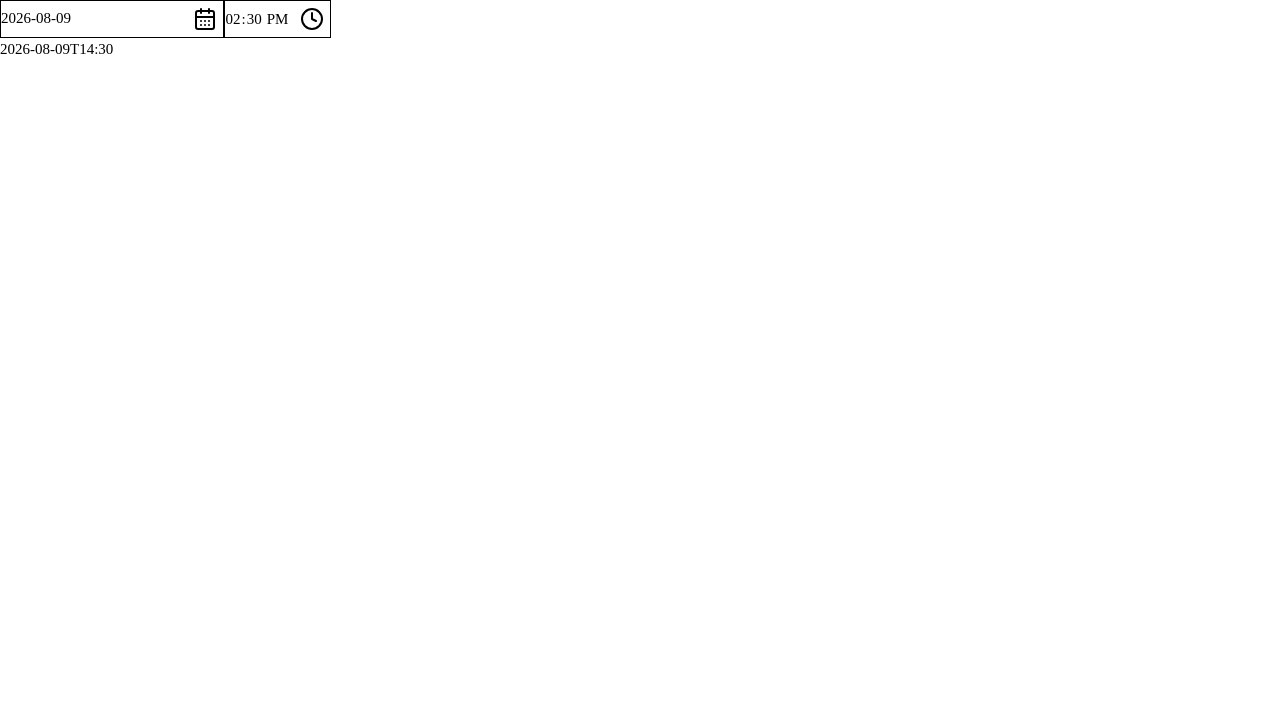
Test: TimePicker › offers half-hourly slots and writes the one clicked
Click the button named "choose a time": [312, 19] box [294,0,331,38]
(page scrolled)
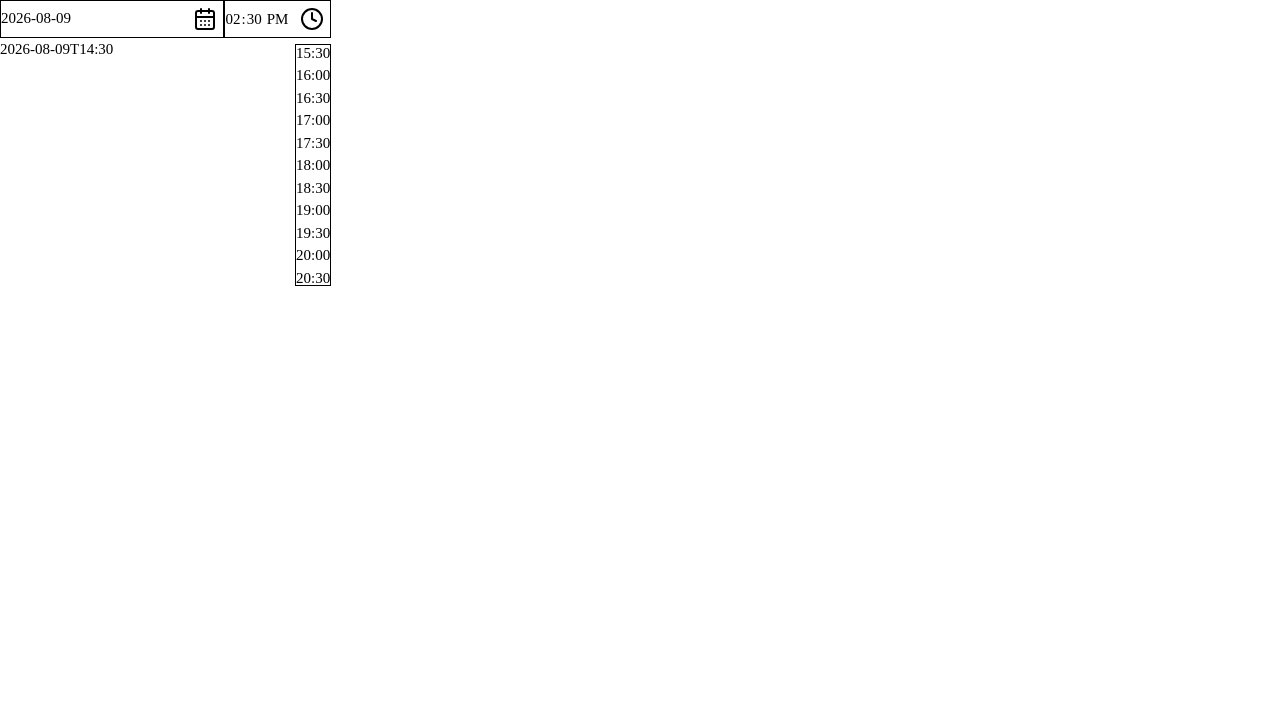
Click the option "18:00": [313, 165] box [296,154,330,176]
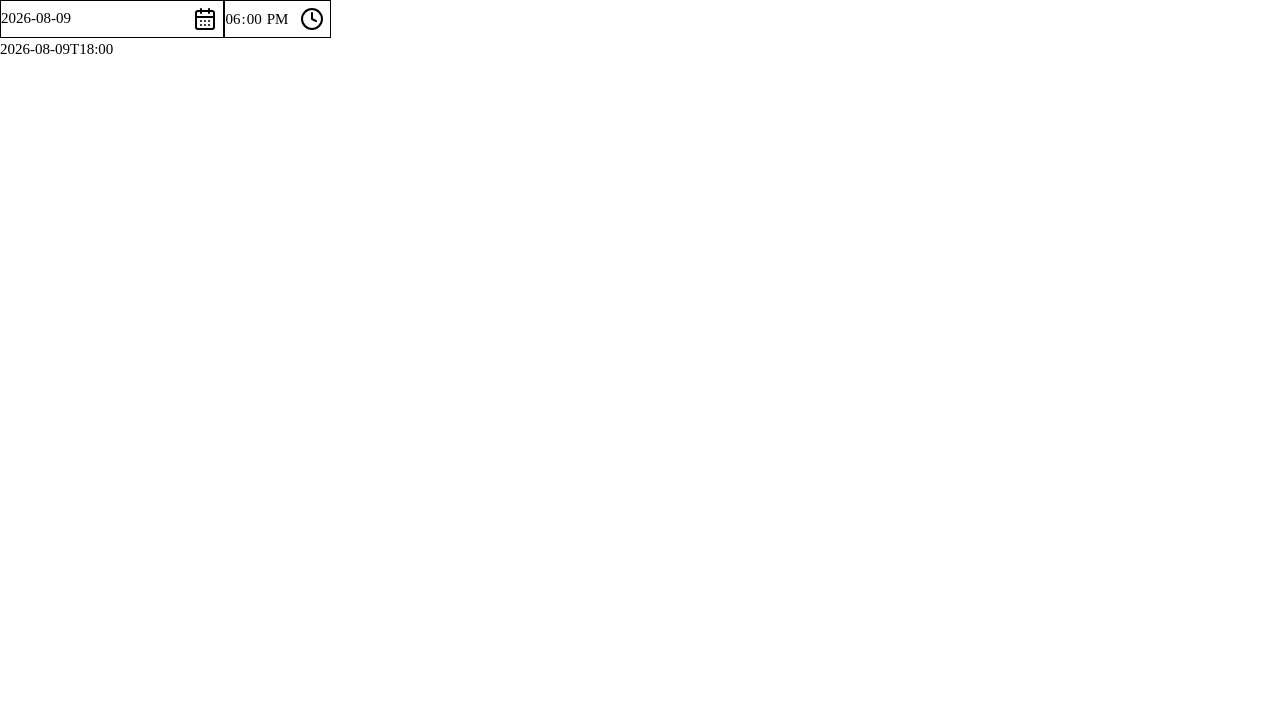
Now the text with test id "value" reads "2026-08-09T18:00", box [0,40,113,56]
